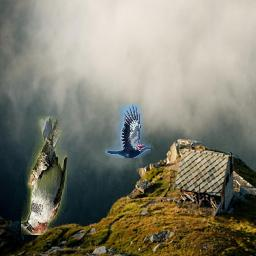Sparrow: (21, 117, 67, 236)
Woodpecker: (105, 104, 151, 158)
